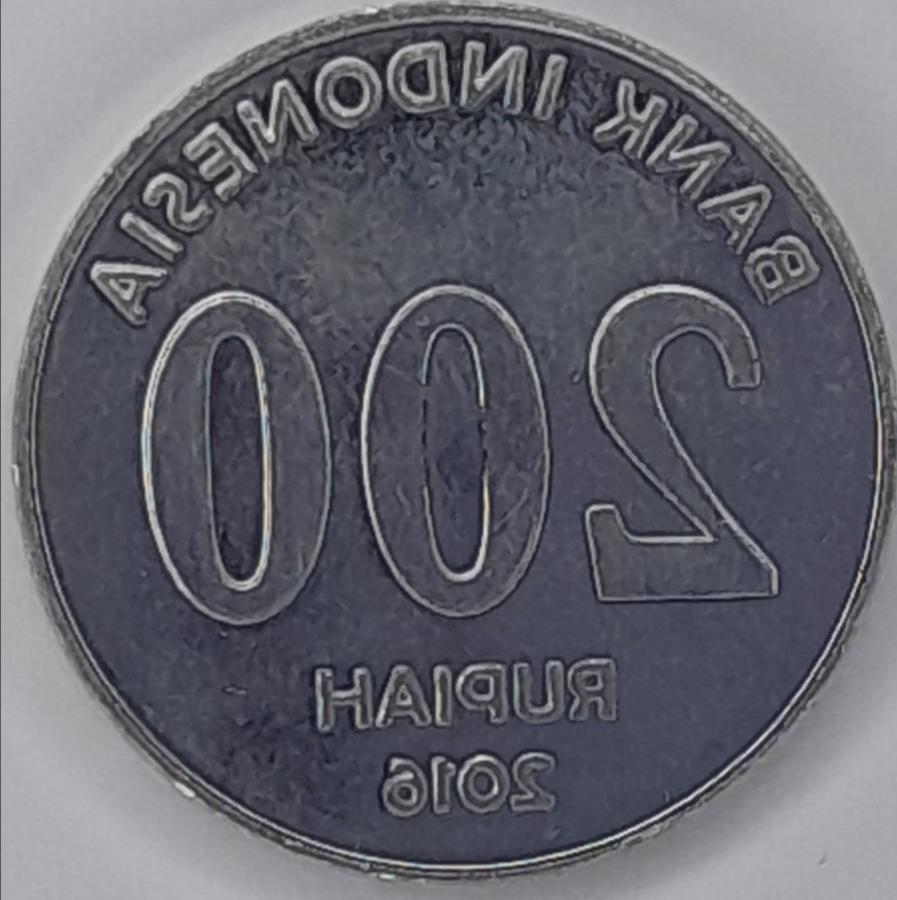coin_200_e2016: (0, 16, 897, 900)
